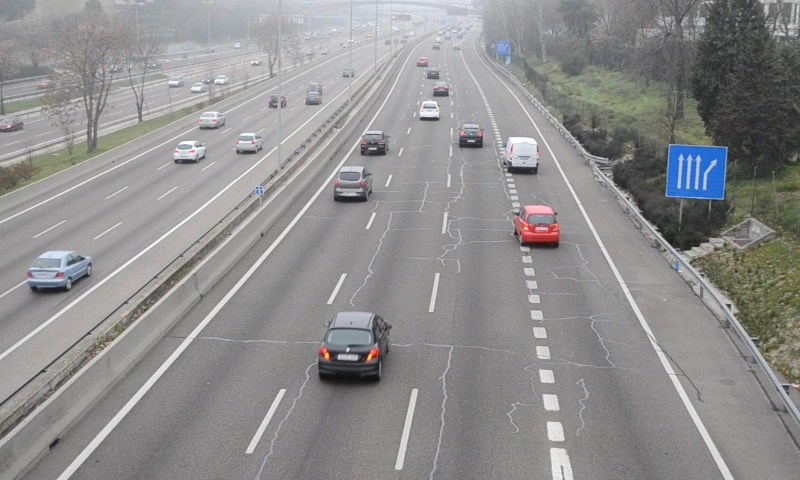car: (319, 312, 388, 380), (513, 204, 560, 245), (333, 166, 373, 197), (360, 131, 390, 156), (458, 124, 484, 148), (418, 98, 441, 119), (432, 80, 448, 96)
van: (505, 137, 539, 171)
